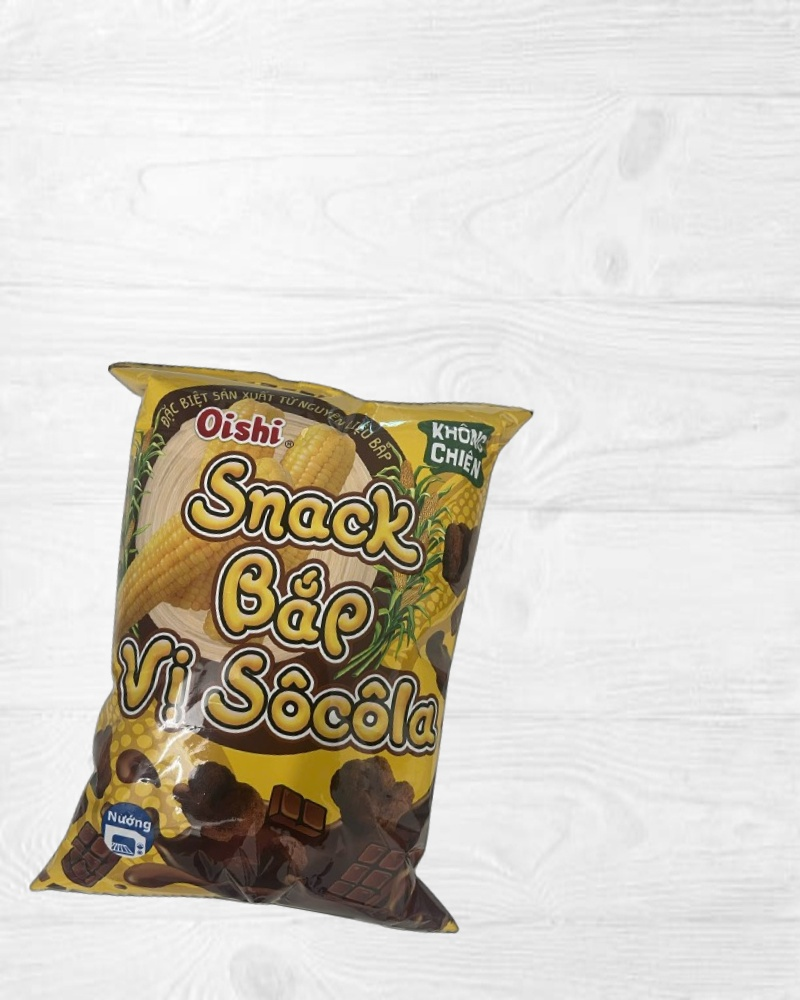Snack socola: (22, 341, 550, 954)
